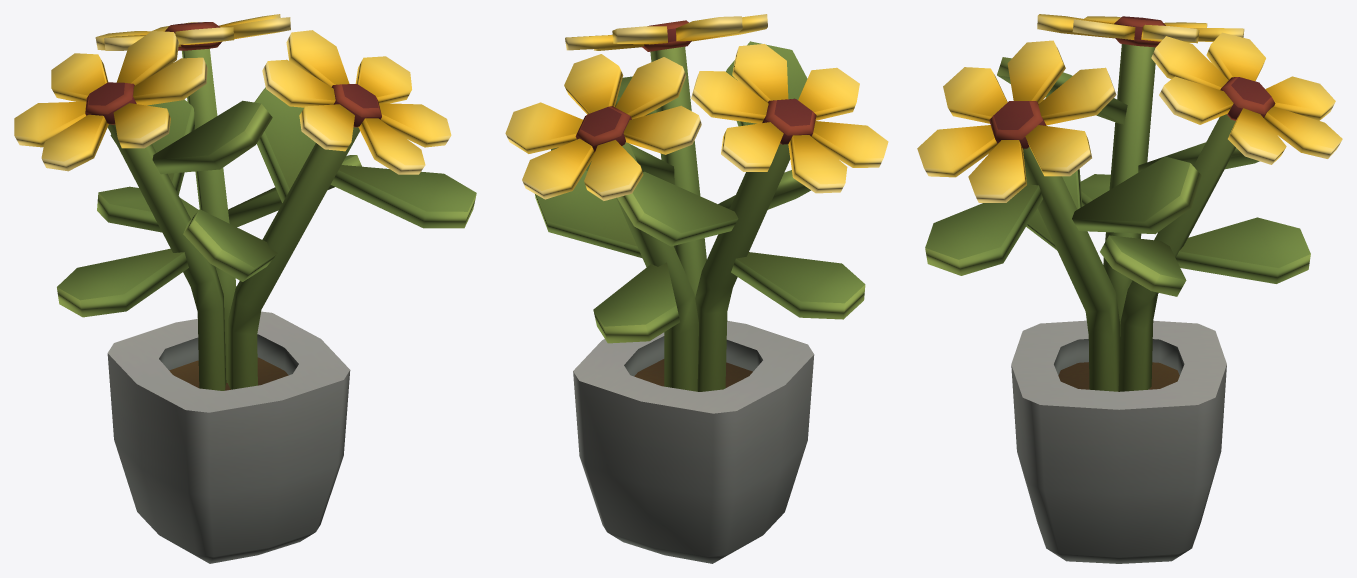
The model's file is flower_bunch_yellow_pot.fbx.
3 views of the same model, side by side, from view 1: azimuth 30°, elevation 25°; view 2: azimuth 150°, elevation 25°; view 3: azimuth 270°, elevation 25° (orthographic).
Parts seen in each view (by area): view 1: flower_bunch_yellow_pot; view 2: flower_bunch_yellow_pot; view 3: flower_bunch_yellow_pot.
Boxes of the visible parts, x1,y1,x2,y2 form: flower_bunch_yellow_pot: (14, 14, 476, 563); flower_bunch_yellow_pot: (505, 14, 888, 563); flower_bunch_yellow_pot: (917, 14, 1342, 563).
Size of the model in its own units: 82.07 by 108 by 83.37.
